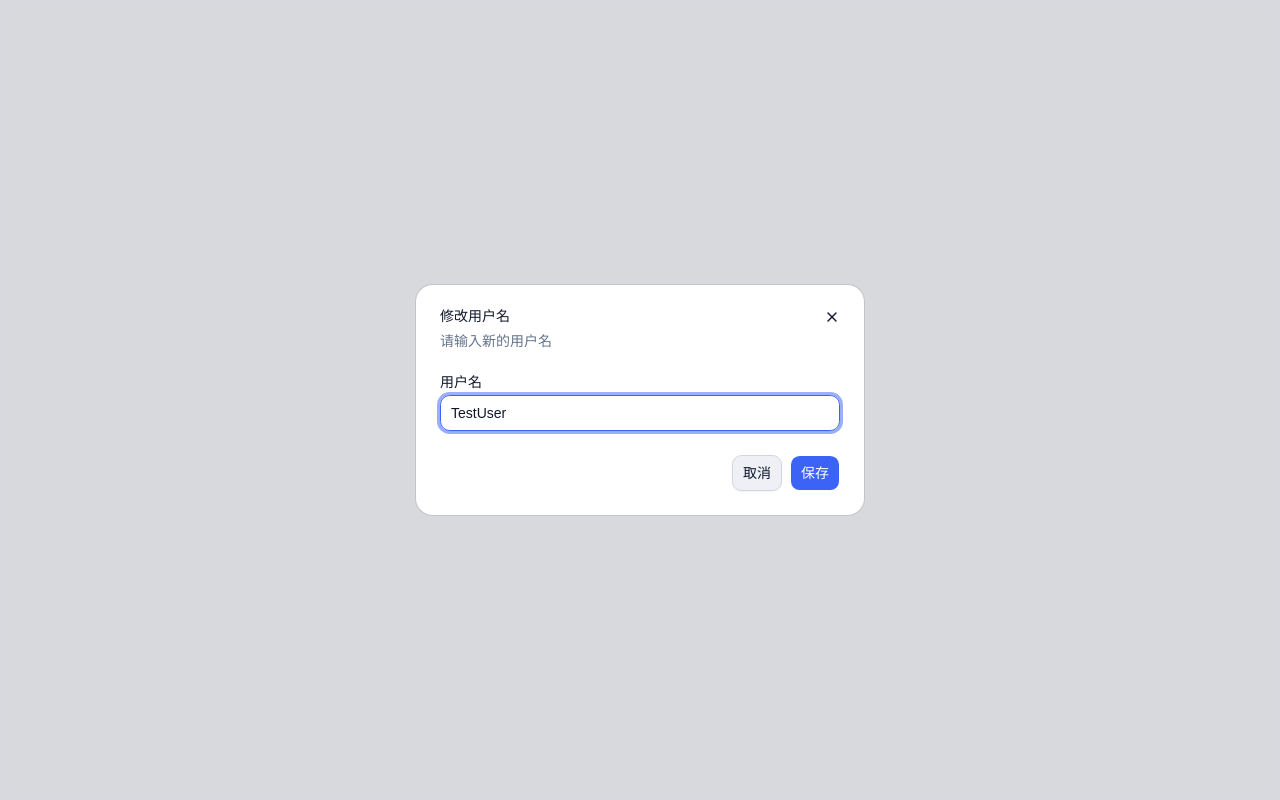
Test: EditNameDialog › disables buttons while submitting
This screenshot has width=1280, height=800.
Replace the text in the field showing "TestUser" with "NewName": (640, 413) left=440, top=395, right=840, bottom=431
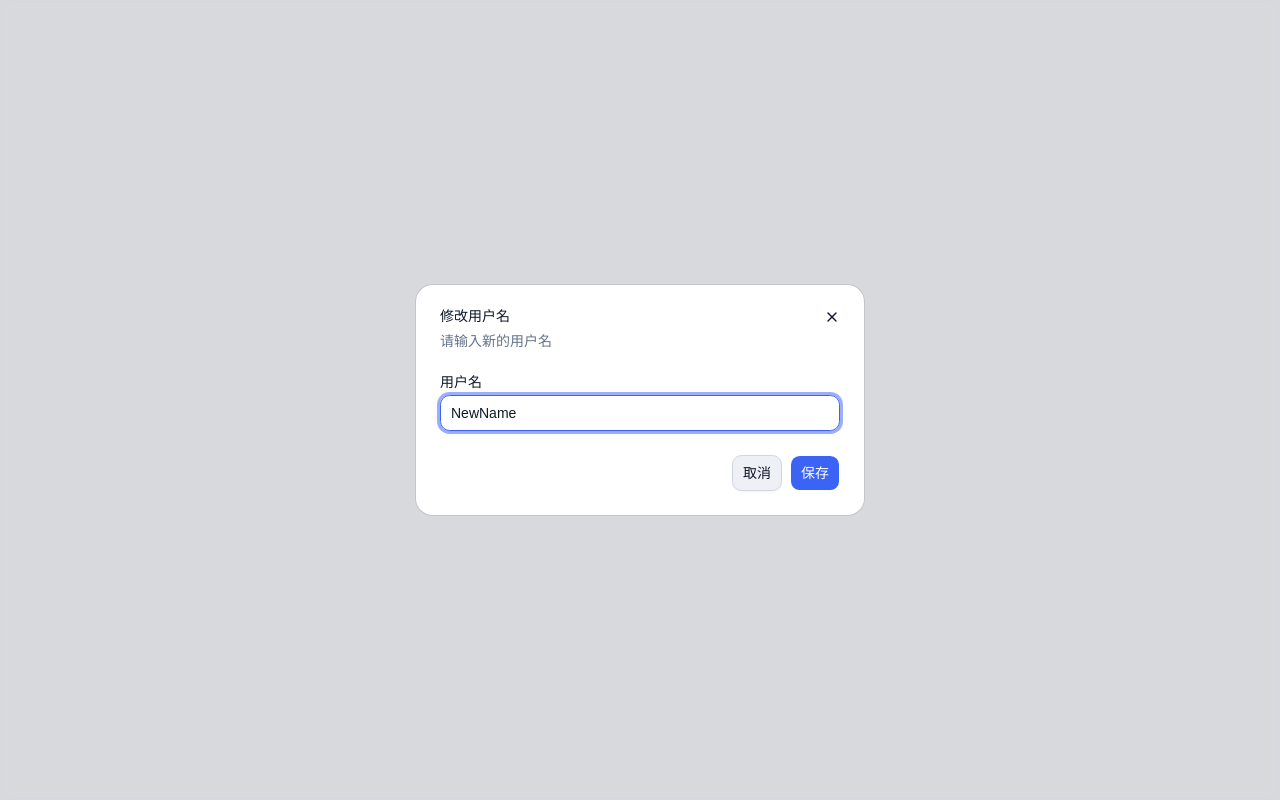
Submit the form showing "TestUser", box left=440, top=375, right=840, bottom=491
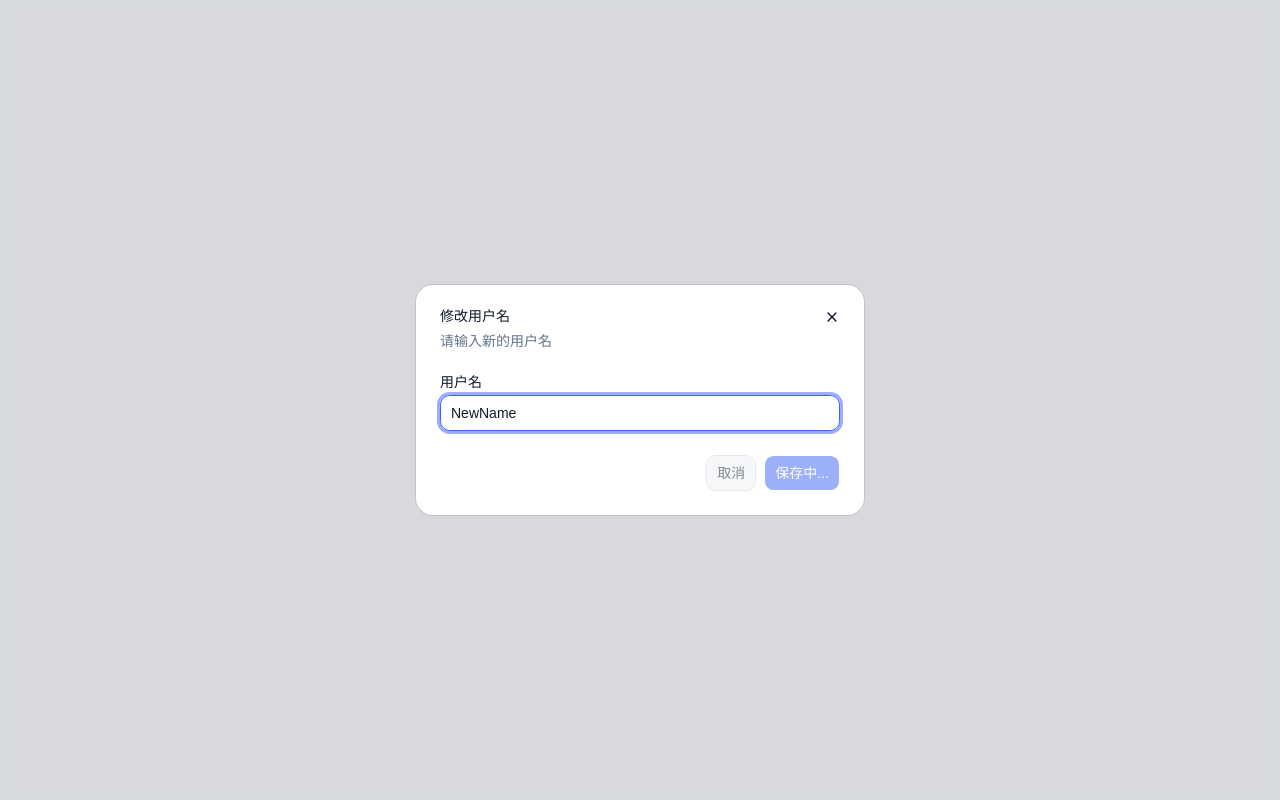
Result: the button "保存中..." is disabled at left=764, top=455, right=840, bottom=491
Result: the button "取消" is disabled at left=706, top=455, right=756, bottom=491
